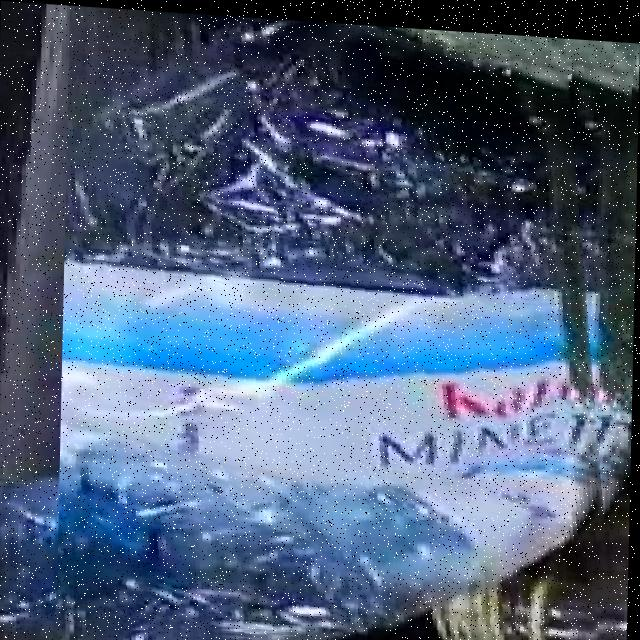litter: (58, 4, 629, 640)
